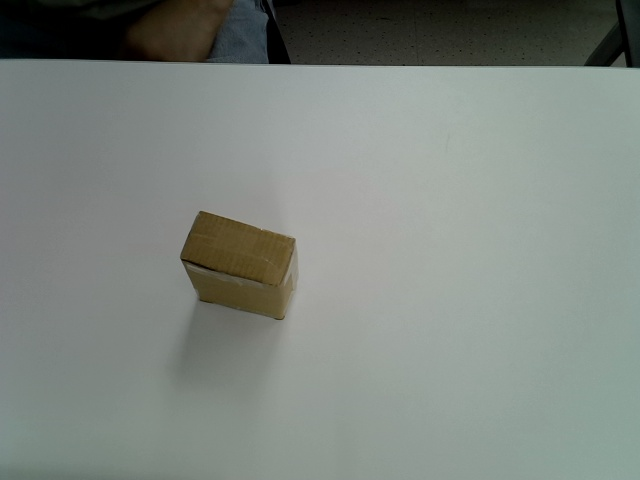normal: (179, 211, 301, 319)
